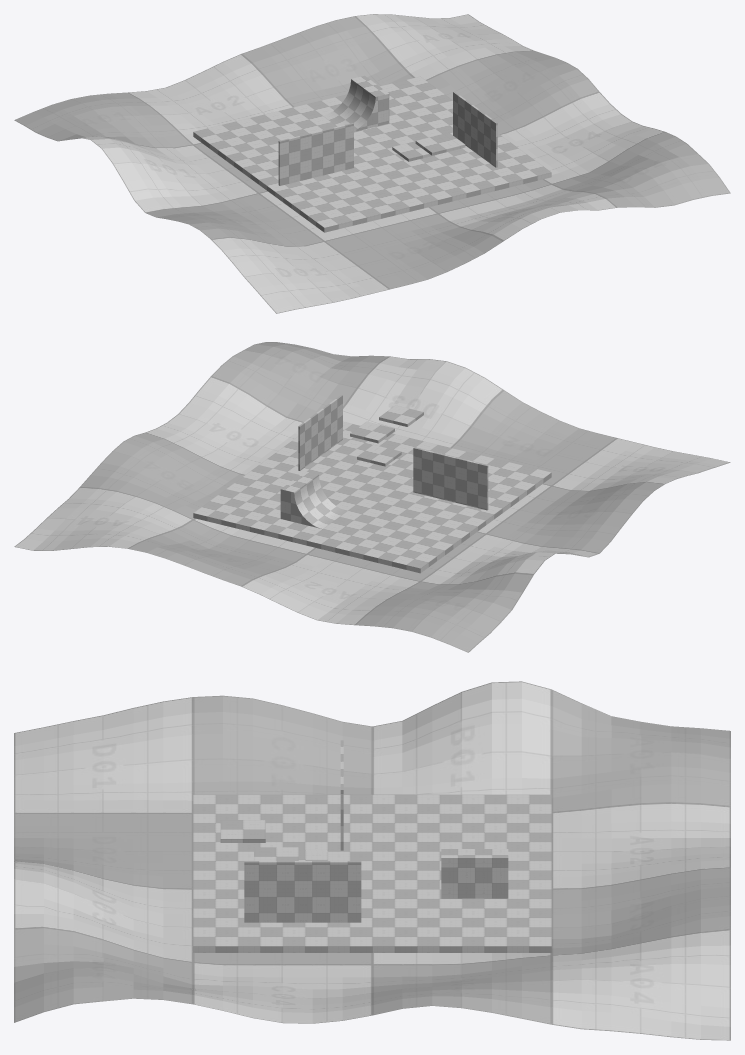
File: environment.glb
3 renders of one model, top to bottom at view 1: azimuth 30°, elevation 25°; view 2: azimuth 150°, elevation 25°; view 3: azimuth 270°, elevation 25°, orthographic. The views are drawn at different scales.
Parts seen in each view (by area): view 1: Plane; view 2: Plane; view 3: Plane.
Boxes of the visible parts, box(x1,y1,x2,y2) form: Plane: box(14, 14, 730, 313); Plane: box(14, 342, 730, 652); Plane: box(14, 681, 730, 1040).
Size of the model in its own units: 32 by 5.92 by 32.
Materials: 1 (1 with a texture image).
